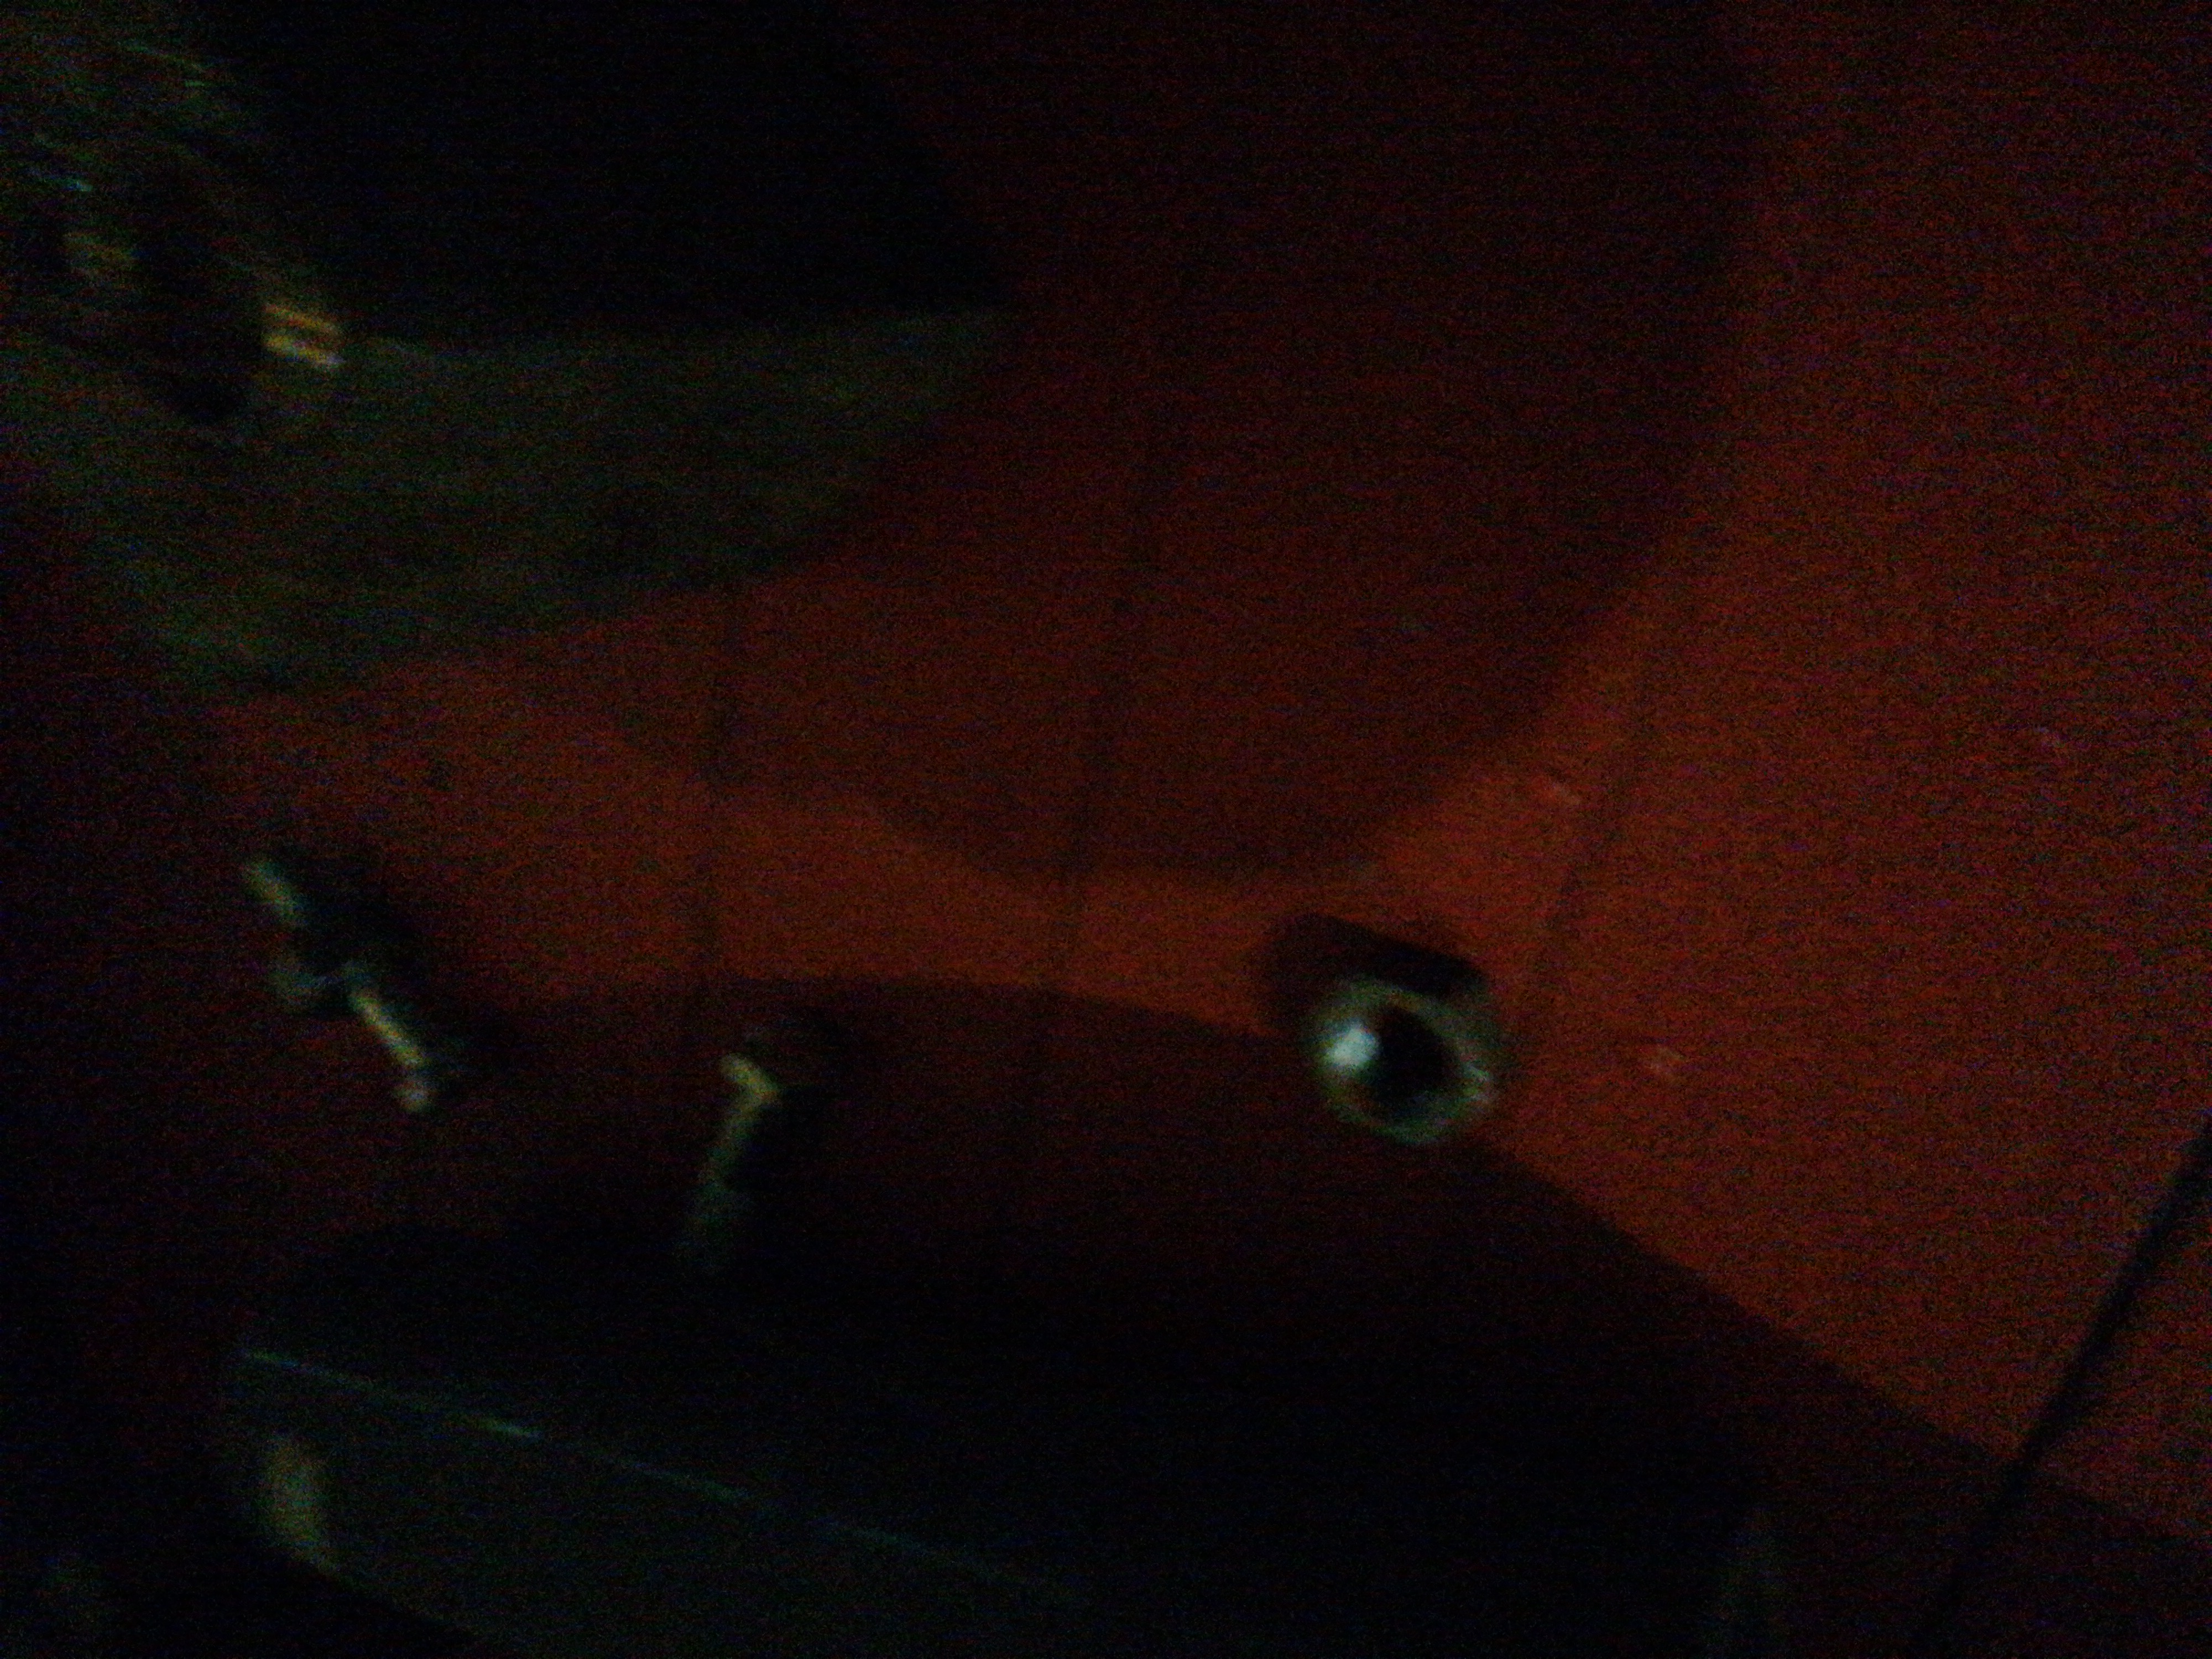bolt: (244, 847, 507, 1114), (671, 1014, 841, 1276)
led_block: (0, 7, 1014, 706)
nut: (1298, 955, 1503, 1159), (268, 899, 408, 1021)
pipe: (209, 1218, 1804, 1659)
